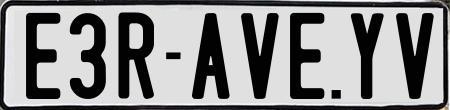3: (70, 11, 106, 97)
A: (192, 11, 236, 103)
E: (24, 10, 62, 97), (287, 10, 325, 97)
R: (118, 10, 156, 101)
V: (240, 12, 281, 101), (396, 12, 434, 104)
Y: (348, 13, 382, 104)
